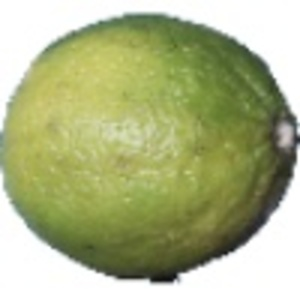limão: (1, 12, 300, 284)
